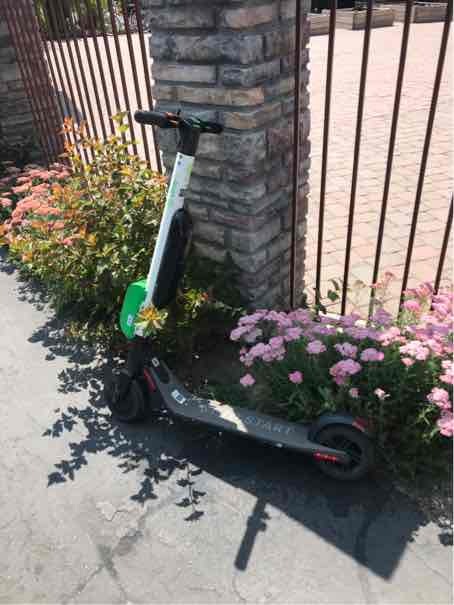scooter: (88, 97, 375, 483)
